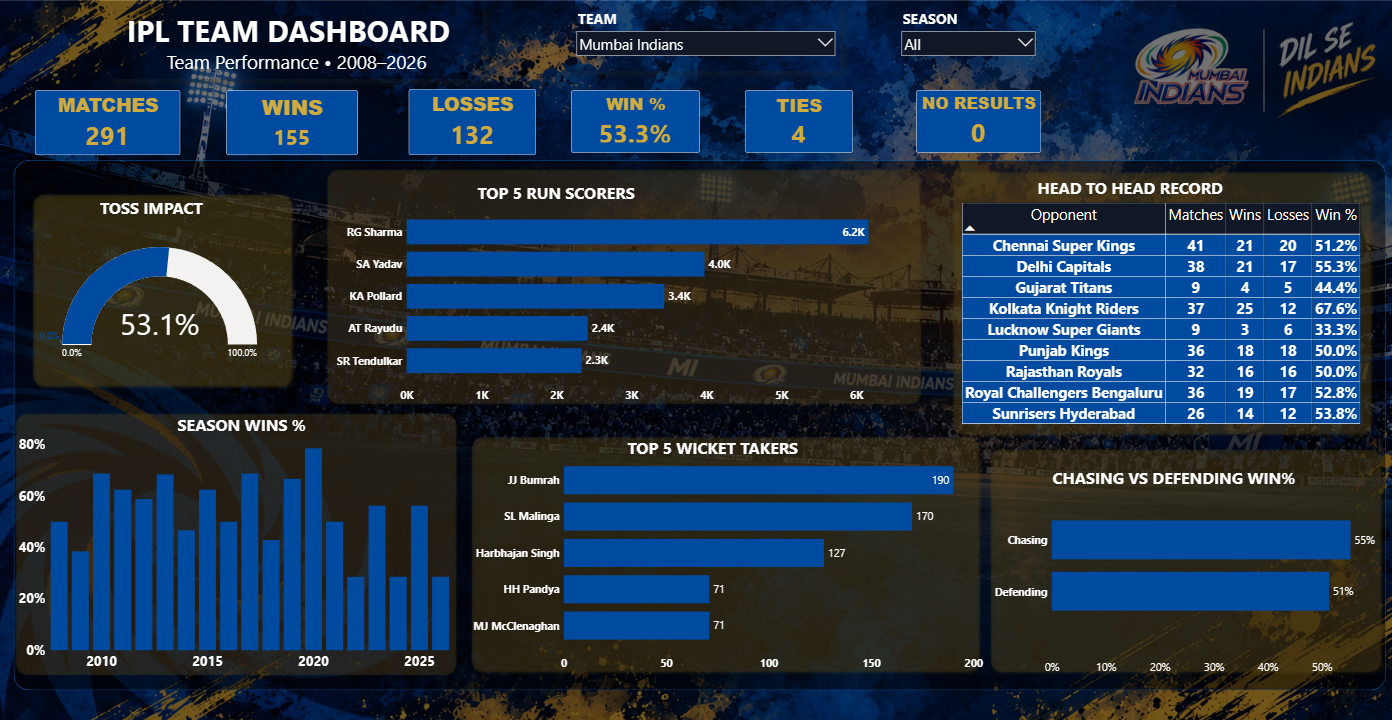

The dashboard page shown, as its layout file describes it:
{"tool":"powerbi","page":{"name":"Page 1","canvas":[2800,1450],"ordinal":0},"visuals":[{"type":"image","box":[0,2.3,2800,1448.5],"z":0},{"type":"shape","box":[0,2.3,2800,1448.5],"z":1000},{"type":"shape","box":[27.2,322.3,2744.3,1060],"z":2000},{"type":"shape","box":[56.7,383.6,535.7,401.8],"z":2500},{"type":"shape","box":[649.2,338.2,1196.2,476.7],"z":2750},{"type":"shape","box":[935.6,868.6,1032.7,487.5],"z":2875},{"type":"shape","box":[27.2,824,889.8,531.2],"z":2937},{"type":"shape","box":[1897.6,338.2,853.5,542.5],"z":2968},{"type":"shape","box":[1972.5,892.1,799,463.1],"z":2984},{"type":"slicer","fields":{"Values":["Dim_Team.Team_Name"]},"box":[1143.6,13.9,538.3,129.4],"z":3000},{"type":"slicer","fields":{"Values":["Dim_Date.Year"]},"box":[1792.7,13.9,288.8,129.4],"z":4000},{"type":"textbox","box":[219.5,18.5,746.2,143.2],"z":5000},{"type":"cardVisual","title":"MATCHES","fields":{"Data":["Dim_Date.Matches Played"]},"box":[70.4,181.6,290.5,129.4],"z":6000},{"type":"cardVisual","title":"WINS","fields":{"Data":["Fact_Match.Wins"]},"box":[452.8,182.5,263.4,129.4],"z":8000},{"type":"cardVisual","title":"LOSSES","fields":{"Data":["Fact_Match.Losses"]},"box":[817.2,179.3,254.2,131.7],"z":9000},{"type":"cardVisual","title":"WIN %","fields":{"Data":["Fact_Match.Win %"]},"box":[1143.6,182.5,256.4,124.8],"z":10000},{"type":"cardVisual","title":"TIES","fields":{"Data":["Fact_Match.Ties"]},"box":[1489,181.6,215.6,124.8],"z":11000},{"type":"cardVisual","title":"NO RESULTS","fields":{"Data":["Fact_Match.No Results"]},"box":[1832,182.5,249.5,124.8],"z":12000},{"type":"clusteredBarChart","title":"Top 5 Run Scorers","fields":{"Y":["Dim_Date.Total Runs"],"Category":["Fact_Ball.batter"]},"box":[667.3,401.8,1125.9,415.4],"z":13000},{"type":"clusteredBarChart","title":"Top 5 Wicket Takers","fields":{"Category":["Fact_Ball.bowler"],"Y":["Fact_Ball.Total Wickets"]},"box":[940.3,891.7,1032.7,462],"z":14000},{"type":"tableEx","title":"HEAD-TO-HEAD RECORD","fields":{"Values":["H2H Opponents.Opponent","Dim_Date.H2H Matches","Dim_Date.H2H Wins","Dim_Date.H2H Losses","Dim_Date.H2H Win %"]},"box":[1918.1,401.8,810.4,469.9],"z":15000},{"type":"clusteredBarChart","title":"Chasing vs Defending","fields":{"Category":["Match Situation.Situation"],"Y":["Match Situation.Situation Win %"]},"box":[1988.4,937.5,783.1,419.9],"z":16000},{"type":"clusteredColumnChart","title":"Season Wins","fields":{"Y":["Dim_Date.Season Win %"],"Category":["Dim_Date.Year"]},"box":[32.3,868.6,884.8,485.1],"z":17000},{"type":"gauge","title":"Toss Impact","fields":{"Y":["Dim_Date.Toss Win Match %"]},"box":[70.4,474.4,449.4,272.4],"z":18000},{"type":"textbox","box":[196,390,301.9,72.6],"z":19000},{"type":"textbox","box":[950,360,397.2,81.7],"z":20000},{"type":"textbox","box":[2070,350,492.6,145.3],"z":21000},{"type":"textbox","box":[350,825,300,300],"z":22000},{"type":"textbox","box":[1250,870,399.7,83.2],"z":23000},{"type":"textbox","box":[2100,930,559.1,122.4],"z":24000}]}

Visuals, with their boxes in screenshot pixels (x1, y1, x2, y2), scaled from the page's 2800x1450 canvas onto the 1392x720 screenshot:
image: (0, 1, 1391, 719)
shape: (0, 1, 1391, 719)
shape: (14, 160, 1378, 686)
shape: (28, 190, 295, 390)
shape: (323, 168, 917, 405)
shape: (465, 431, 979, 673)
shape: (14, 409, 456, 673)
shape: (943, 168, 1368, 437)
shape: (981, 443, 1378, 673)
slicer - Dim_Team.Team_Name: (569, 7, 836, 71)
slicer - Dim_Date.Year: (891, 7, 1035, 71)
textbox: (109, 9, 480, 80)
"MATCHES" cardVisual: (35, 90, 179, 154)
"WINS" cardVisual: (225, 91, 356, 155)
"LOSSES" cardVisual: (406, 89, 533, 154)
"WIN %" cardVisual: (569, 91, 696, 153)
"TIES" cardVisual: (740, 90, 847, 152)
"NO RESULTS" cardVisual: (911, 91, 1035, 153)
"Top 5 Run Scorers" clusteredBarChart: (332, 200, 891, 406)
"Top 5 Wicket Takers" clusteredBarChart: (467, 443, 981, 672)
"HEAD-TO-HEAD RECORD" tableEx: (954, 200, 1356, 433)
"Chasing vs Defending" clusteredBarChart: (989, 466, 1378, 674)
"Season Wins" clusteredColumnChart: (16, 431, 456, 672)
"Toss Impact" gauge: (35, 236, 258, 371)
textbox: (97, 194, 248, 230)
textbox: (472, 179, 670, 219)
textbox: (1029, 174, 1274, 246)
textbox: (174, 410, 323, 559)
textbox: (621, 432, 820, 473)
textbox: (1044, 462, 1322, 523)
